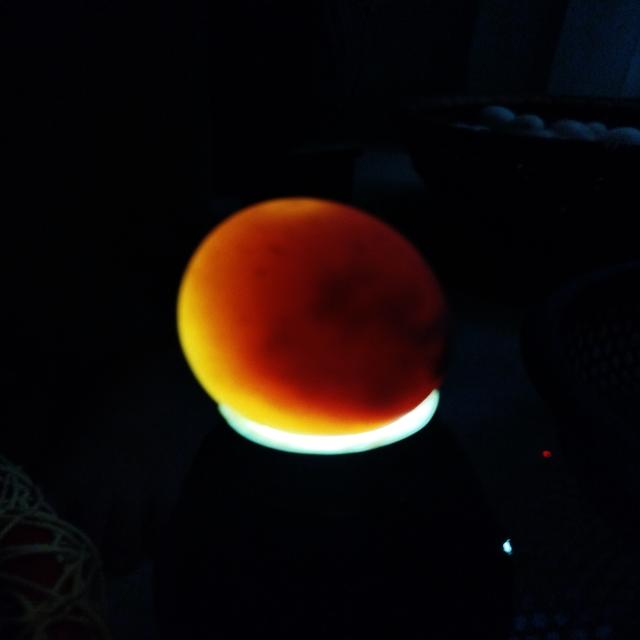Area Infectada: (260, 245, 451, 407)
